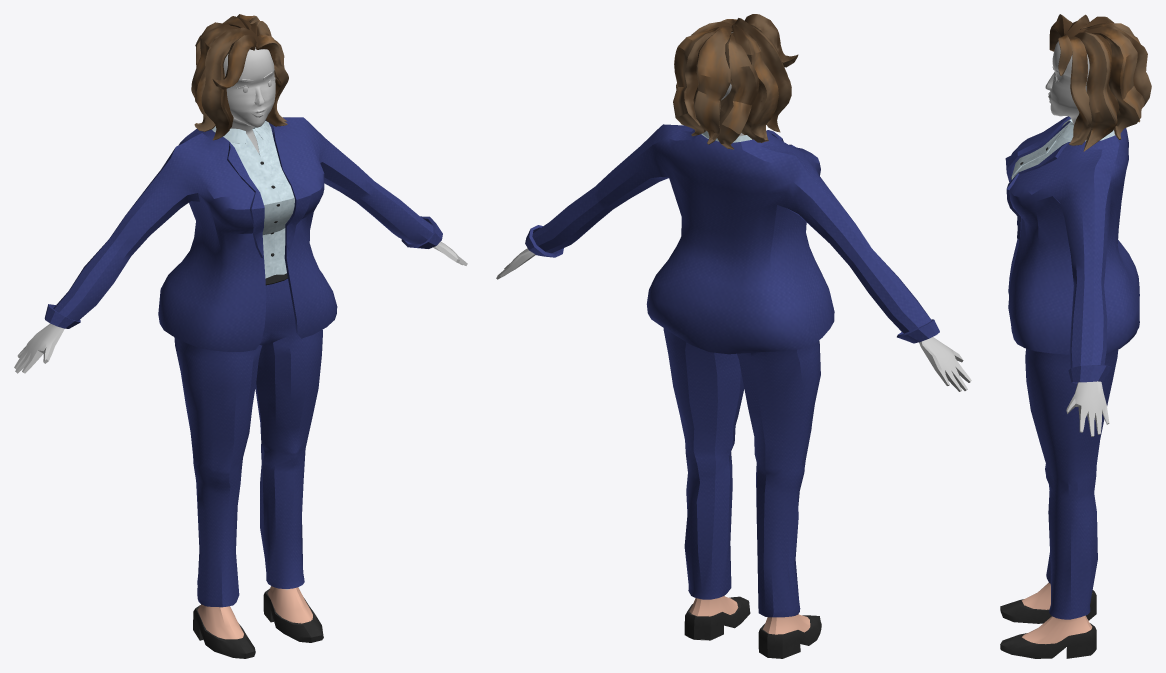
The model's file is BlendPresidenta(L)_v15.fbx.
The picture shows the model from 3 angles, left to right: view 1: azimuth 30°, elevation 25°; view 2: azimuth 150°, elevation 25°; view 3: azimuth 270°, elevation 25°; orthographic projection. The views are drawn at different scales.
Visible parts, largest first — view 1: ropa, chaqueta, Pelo, piel; view 2: chaqueta, ropa, Pelo, piel; view 3: chaqueta, ropa, Pelo, piel.
Part boxes in pixels (left/top/right/bottom): ropa: left=174, top=121, right=323, bottom=658; chaqueta: left=44, top=117, right=442, bottom=351; Pelo: left=191, top=14, right=288, bottom=140; piel: left=14, top=47, right=467, bottom=373; chaqueta: left=525, top=124, right=939, bottom=354; ropa: left=663, top=131, right=821, bottom=658; Pelo: left=673, top=14, right=798, bottom=149; piel: left=496, top=32, right=971, bottom=391; chaqueta: left=1005, top=116, right=1139, bottom=383; ropa: left=1000, top=118, right=1118, bottom=658; Pelo: left=1049, top=14, right=1151, bottom=151; piel: left=1045, top=41, right=1109, bottom=436.
Size of the model in its own units: 126 by 161 by 36.1.
